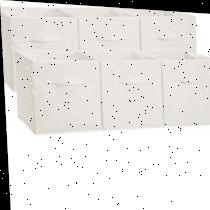cube: (10, 48, 101, 137), (98, 49, 166, 131), (160, 48, 210, 126)
